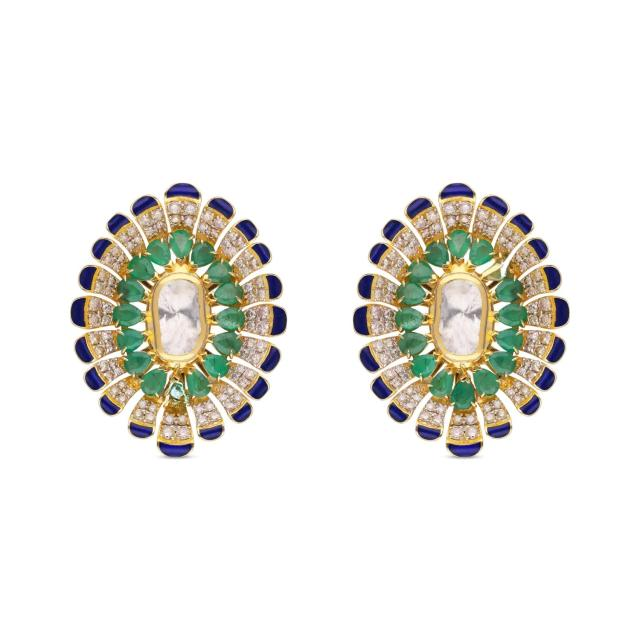missing gem: (482, 256, 513, 281), (167, 377, 187, 407)
